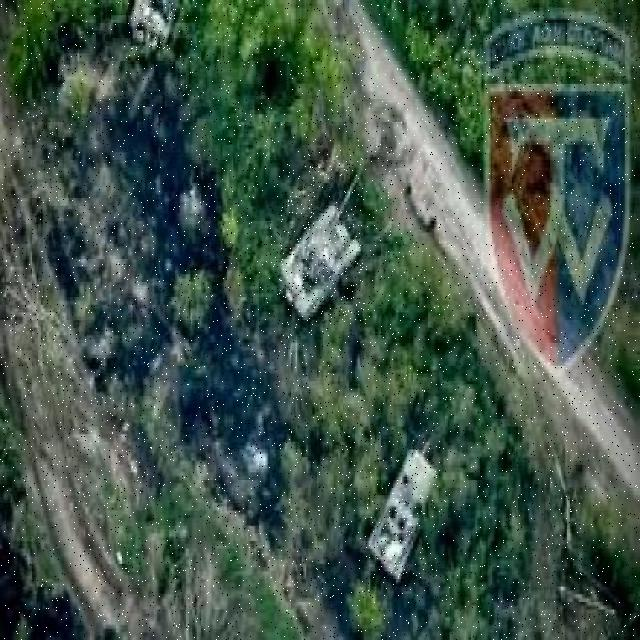MIL_MBT: (275, 163, 363, 322), (365, 430, 440, 588)
